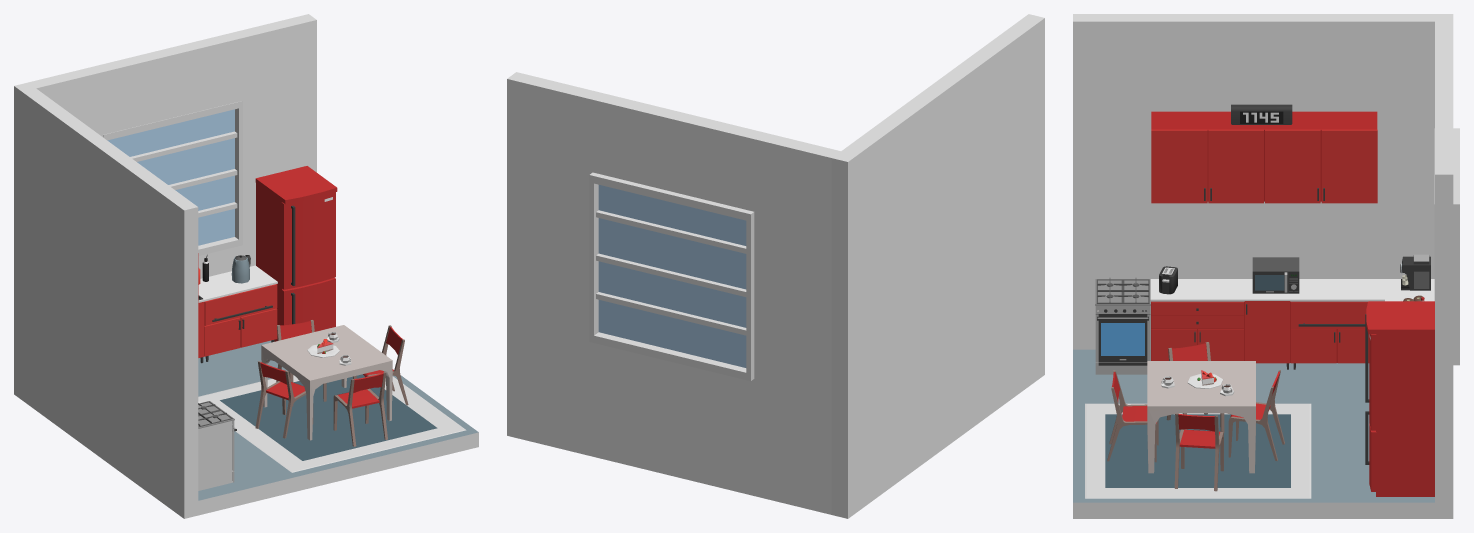
Rendered from room_18.glb.
The picture shows the model from 3 angles, left to right: view 1: azimuth 30°, elevation 25°; view 2: azimuth 150°, elevation 25°; view 3: azimuth 270°, elevation 25°; orthographic projection. The views are drawn at different scales.
Visible parts, largest first — view 1: Walls_006.029, Walls_006.030, carpet_004.006, window_014.001, kitchen_item_041.001, Walls_116.024, Walls_006.032, kitchen_item_040.001, kitchen_table_004.001, Walls_006.028, kitchen_item_031.001, kitchen_chair_035.002 (+4 smaller); view 2: Walls_006.029, Walls_006.030, Walls_006.028, window_014.001, Walls_006.031, Walls_006.032; view 3: Walls_006.029, Walls_116.024, kitchen_item_042.001, kitchen_item_040.001, carpet_004.006, kitchen_item_041.001, Walls_006.030, kitchen_table_004.001, kitchen_item_031.001, kitchen_chair_035.001, window_014.001, kitchen_item_007.001 (+9 smaller).
Boxes of the visible parts, <box> form: Walls_006.029: <box>14,82,198,518</box>; Walls_006.030: <box>232,14,316,266</box>; carpet_004.006: <box>198,374,466,472</box>; window_014.001: <box>103,101,242,255</box>; kitchen_item_041.001: <box>255,166,337,341</box>; Walls_116.024: <box>198,340,478,515</box>; Walls_006.032: <box>98,33,239,133</box>; kitchen_item_040.001: <box>198,265,277,403</box>; kitchen_table_004.001: <box>261,325,392,440</box>; Walls_006.028: <box>28,65,106,136</box>; kitchen_item_031.001: <box>198,401,236,490</box>; kitchen_chair_035.002: <box>333,372,387,446</box>; Walls_006.029: <box>831,14,1044,518</box>; Walls_006.030: <box>507,72,605,457</box>; Walls_006.028: <box>750,131,840,514</box>; window_014.001: <box>589,172,754,381</box>; Walls_006.031: <box>596,343,750,494</box>; Walls_006.032: <box>596,94,759,210</box>; Walls_006.029: <box>1073,14,1453,349</box>; Walls_116.024: <box>1073,349,1434,518</box>; kitchen_item_042.001: <box>1151,111,1377,203</box>; kitchen_item_040.001: <box>1150,279,1434,369</box>; carpet_004.006: <box>1085,403,1311,498</box>; kitchen_item_041.001: <box>1365,301,1434,496</box>; Walls_006.030: <box>1435,132,1453,518</box>; kitchen_table_004.001: <box>1147,361,1255,473</box>; kitchen_item_031.001: <box>1095,278,1150,374</box>; kitchen_chair_035.001: <box>1174,413,1223,491</box>; window_014.001: <box>1434,128,1459,365</box>; kitchen_item_007.001: <box>1252,257,1299,293</box>.
Bounding box in the file's own units: 4.2 × 4.2 × 4.27.
1 material, 1 textured.
